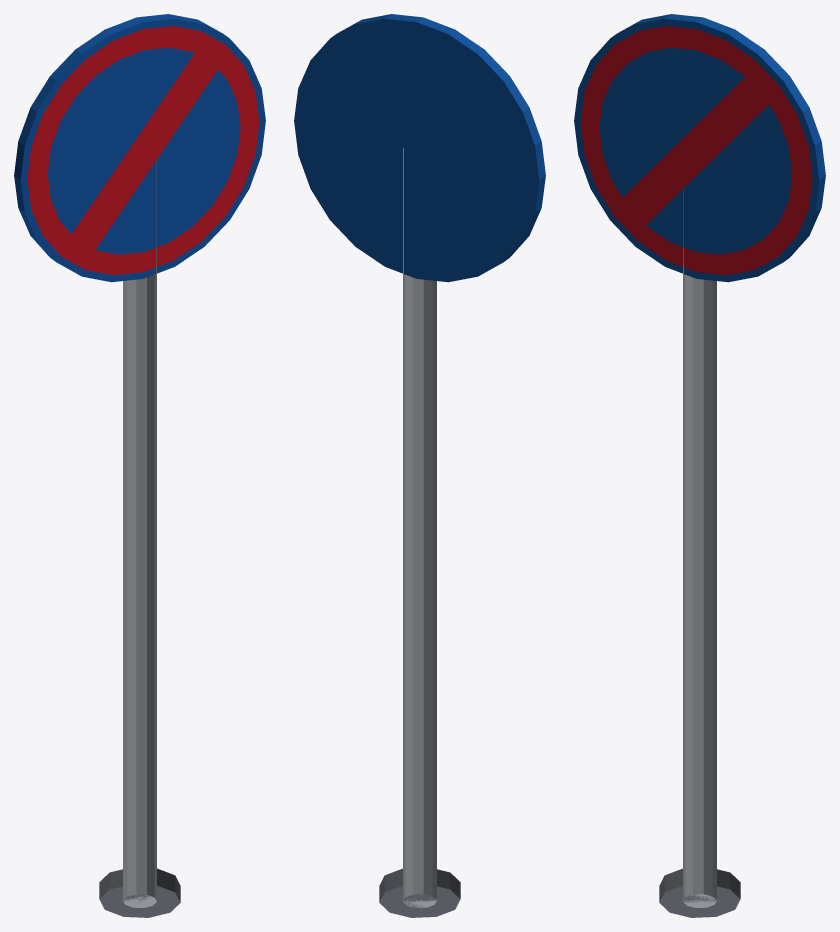
The model's file is sign-noparking.glb.
3 views of the same model, side by side, from view 1: azimuth 30°, elevation 25°; view 2: azimuth 150°, elevation 25°; view 3: azimuth 330°, elevation 25° (orthographic).
Parts seen in each view (by area): view 1: sign-noparking; view 2: sign-noparking; view 3: sign-noparking.
Boxes of the visible parts, x1,y1,x2,y2 form: sign-noparking: [14, 14, 265, 917]; sign-noparking: [294, 14, 545, 917]; sign-noparking: [574, 14, 825, 917].
Size of the model in its own units: 0.75 by 2.58 by 0.2054.
